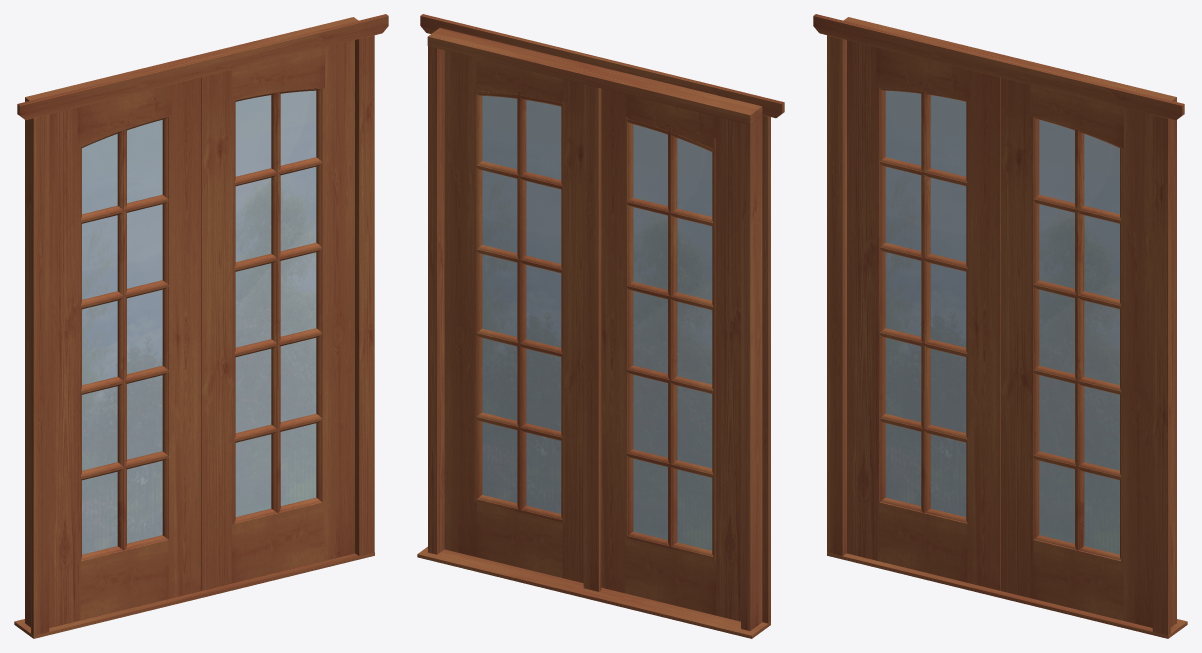
3 renders of one model, left to right at view 1: azimuth 30°, elevation 25°; view 2: azimuth 150°, elevation 25°; view 3: azimuth 330°, elevation 25°, orthographic.
Parts seen in each view (by area): view 1: glass001, glass, door_right, door_right001, door_left001, door_left, trim_right, trim_left, trim_top, door_bottom001, door_bottom, muttin020 (+18 smaller); view 2: glass001, glass, door_left001, door_left, door_right, box_left, door_right001, astragal, box_right, box_top, door_bottom, threshold (+21 smaller); view 3: glass, glass001, door_right, door_right001, door_left, door_left001, trim_right, trim_left, trim_top, door_bottom001, door_bottom, muttin001 (+18 smaller).
Boxes of the visible parts, x1,y1,x2,y2 form: glass001: (235, 90, 316, 516); glass: (82, 120, 162, 554); door_right: (168, 77, 201, 598); door_right001: (201, 70, 234, 590); door_left001: (321, 40, 354, 560); door_left: (49, 107, 80, 627); trim_right: (356, 35, 374, 556); trim_left: (31, 115, 49, 635); trim_top: (17, 14, 388, 120); door_bottom001: (232, 502, 324, 583); door_bottom: (80, 539, 169, 620); muttin020: (271, 92, 280, 512); glass001: (482, 96, 561, 513); glass: (633, 124, 712, 550); door_left001: (444, 50, 476, 556); door_left: (713, 116, 740, 621); door_right: (601, 88, 627, 593); box_left: (741, 116, 762, 630); door_right001: (562, 79, 583, 583); astragal: (583, 84, 601, 591); box_right: (428, 46, 444, 554); box_top: (427, 28, 762, 124); door_bottom: (624, 536, 715, 615); threshold: (417, 546, 770, 638); glass: (885, 90, 966, 516); glass001: (1039, 120, 1119, 554); door_right: (967, 70, 1000, 590); door_right001: (1000, 77, 1033, 598); door_left: (847, 40, 880, 560); door_left001: (1121, 107, 1152, 627); trim_right: (1152, 115, 1170, 635); trim_left: (827, 35, 845, 555); trim_top: (813, 14, 1184, 120); door_bottom001: (1030, 539, 1123, 620); door_bottom: (877, 502, 968, 582); muttin001: (921, 92, 930, 512).
Bounding box in the file's own units: 60.1 × 83.5 × 5.5.
